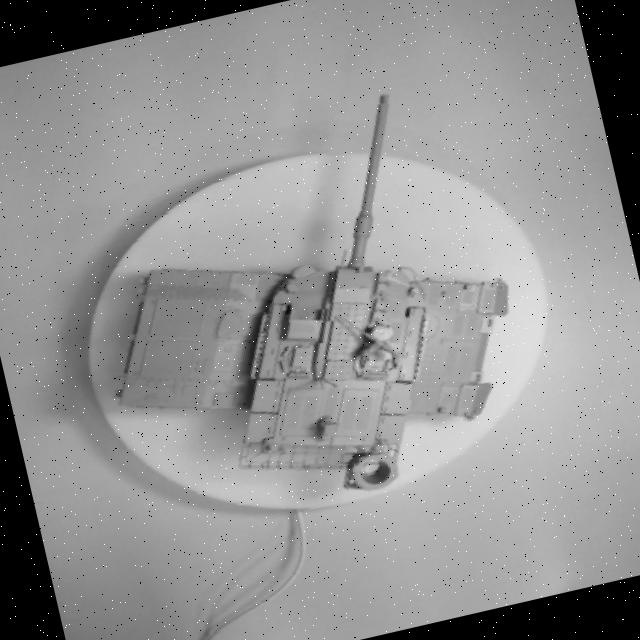korea tank: (58, 29, 573, 537)
